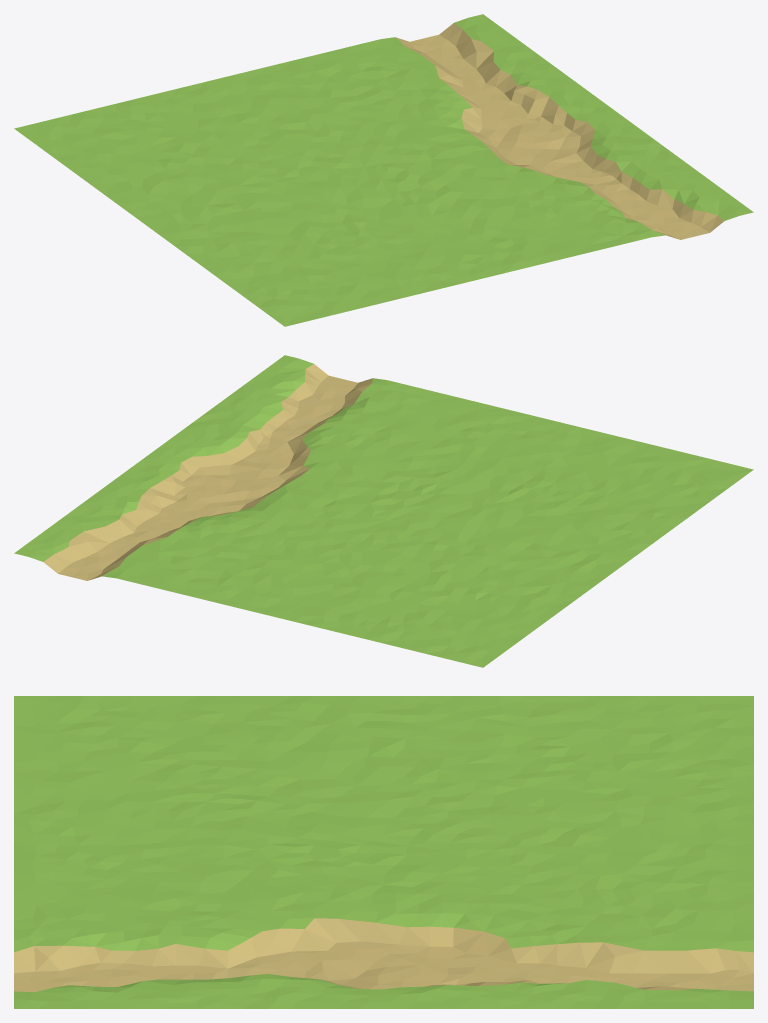
The model's file is river_l_a_02_r.glb.
3 views of the same model, one above another, from view 1: azimuth 30°, elevation 25°; view 2: azimuth 150°, elevation 25°; view 3: azimuth 270°, elevation 25° (orthographic). The views are drawn at different scales.
Parts seen in each view (by area): view 1: CPT_River_L_a_02_R; view 2: CPT_River_L_a_02_R; view 3: CPT_River_L_a_02_R.
Boxes of the visible parts, x1,y1,x2,y2 form: CPT_River_L_a_02_R: (14, 14, 753, 326); CPT_River_L_a_02_R: (14, 355, 753, 667); CPT_River_L_a_02_R: (14, 696, 753, 1008).
Size of the model in its own units: 100 by 2.48 by 100.
Materials: 1 (1 with a texture image).
